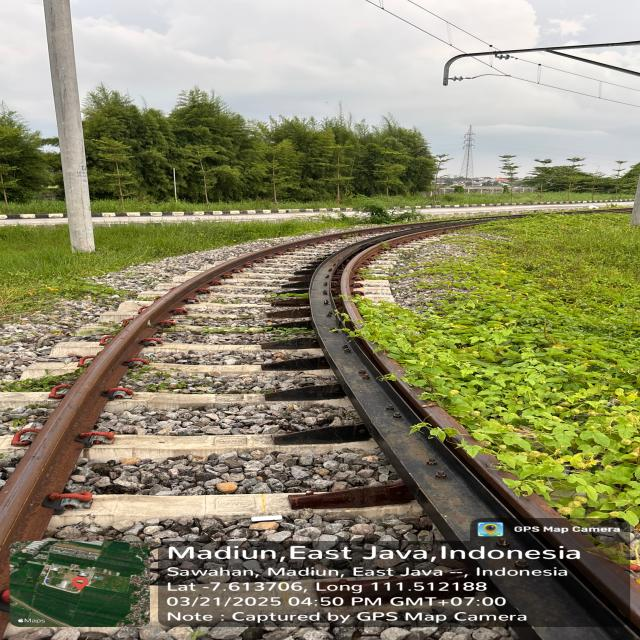rail-detection: (0, 241, 314, 589), (309, 228, 570, 549), (159, 216, 524, 309), (493, 578, 630, 640), (578, 550, 640, 614), (140, 306, 161, 320)
